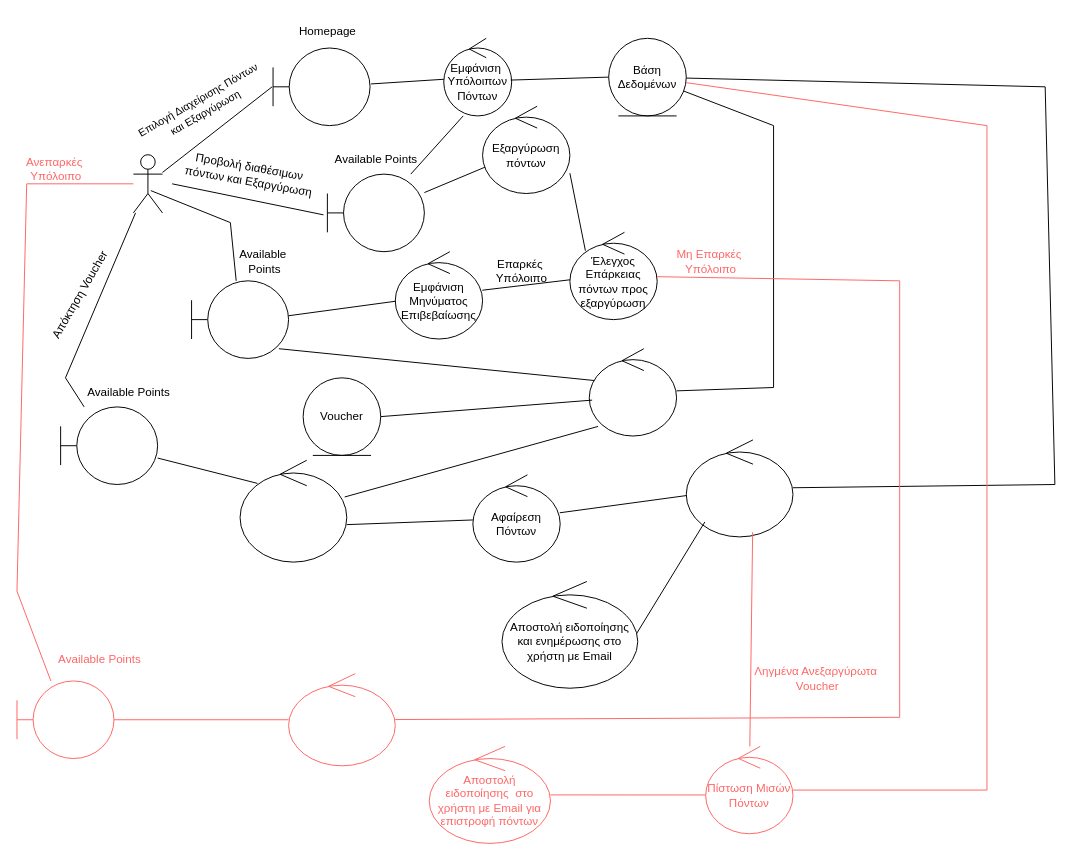
Some shapes in this 1073 by 860 pixel diagram are drawn without their labels. The shapes that lost their labels are listed below. From the top down, each one's centre as x and y in pixels, then its label:
At [147,183]: "Απλώς Αναγνώστης".
At [632,392]: "Δημιουργία Voucher".
At [739,488]: "Έλεγχος για μη εξαργυρωμένα παλαιότερα κουπόνια".
At [293,510]: "Εμφάνιση Μηνύματος Επιτυχούς δημιουργείας Voucher".
At [341,719]: "Εμφάνιση Μηνύματος Μη Επιτυχούς δημιουργίας Voucher".
